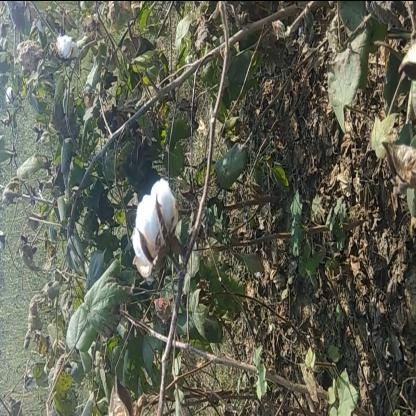cotton_ready: (132, 164, 200, 290)
